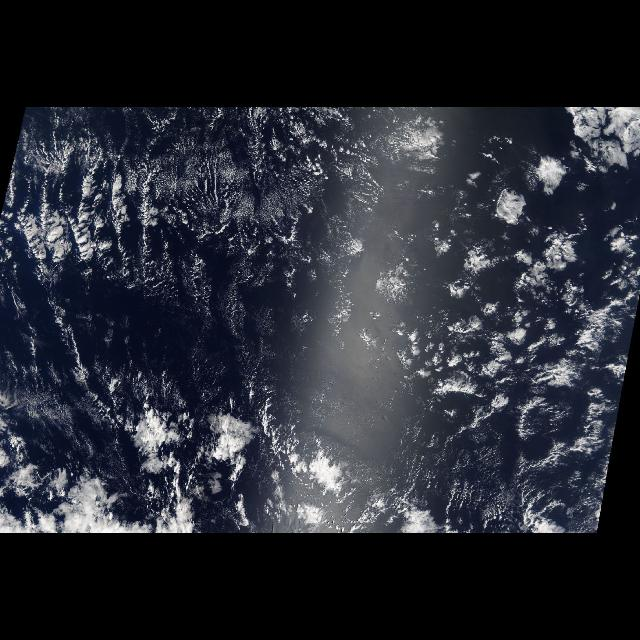Flower: (468, 183, 640, 404)
Sugar: (1, 107, 400, 380)
